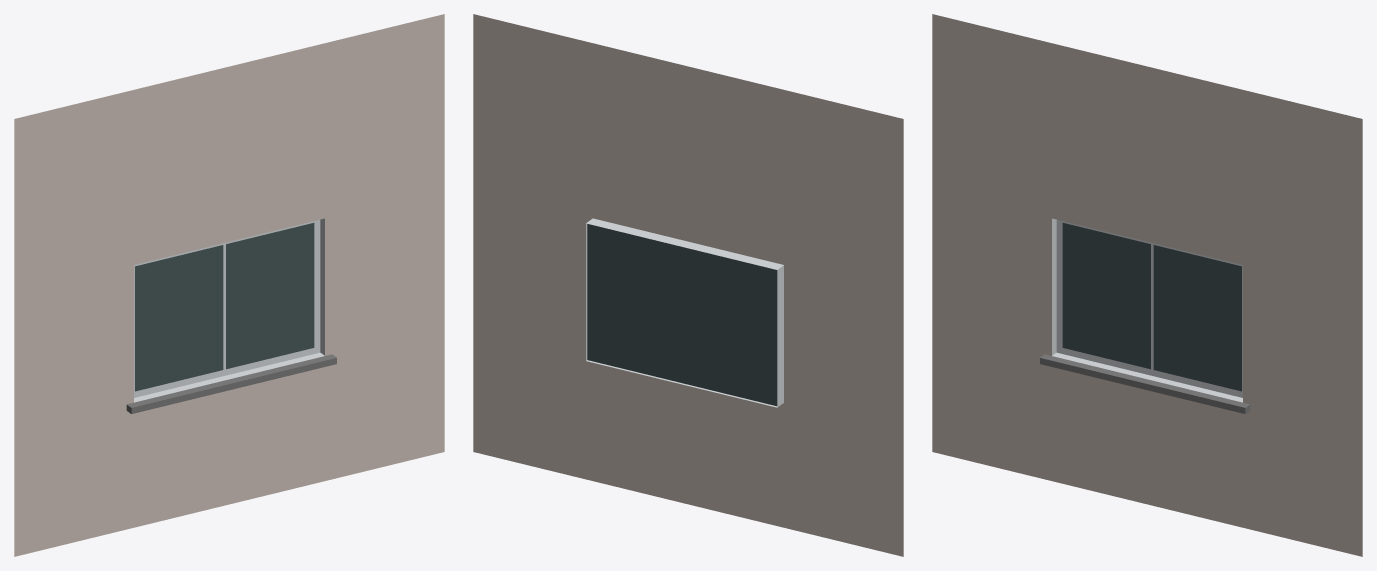
File: mid-w1.fbx
The picture shows the model from 3 angles, left to right: view 1: azimuth 30°, elevation 25°; view 2: azimuth 150°, elevation 25°; view 3: azimuth 330°, elevation 25°; orthographic projection.
Parts seen in each view (by area): view 1: a2003/0/mid-w1; view 2: a2003/0/mid-w1; view 3: a2003/0/mid-w1.
Part boxes in pixels (left/top/right/bottom): a2003/0/mid-w1: left=14, top=14, right=444, bottom=556; a2003/0/mid-w1: left=473, top=14, right=903, bottom=556; a2003/0/mid-w1: left=932, top=14, right=1362, bottom=556.
Bounding box in the file's own units: 3.6 × 3.5 × 0.17.
